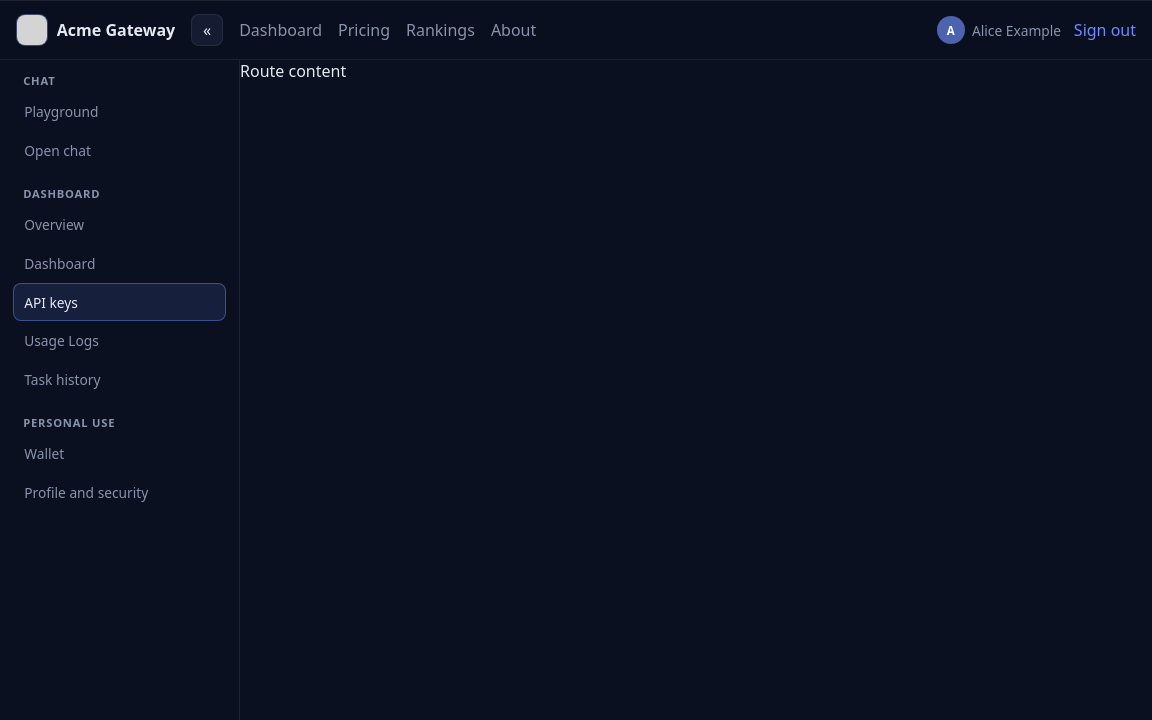
Scenario: AuthenticatedLayout › keeps the session visible and redacts a failed logout response
Click the button "Sign out" at (1105, 30), box [1074,13,1136,47]
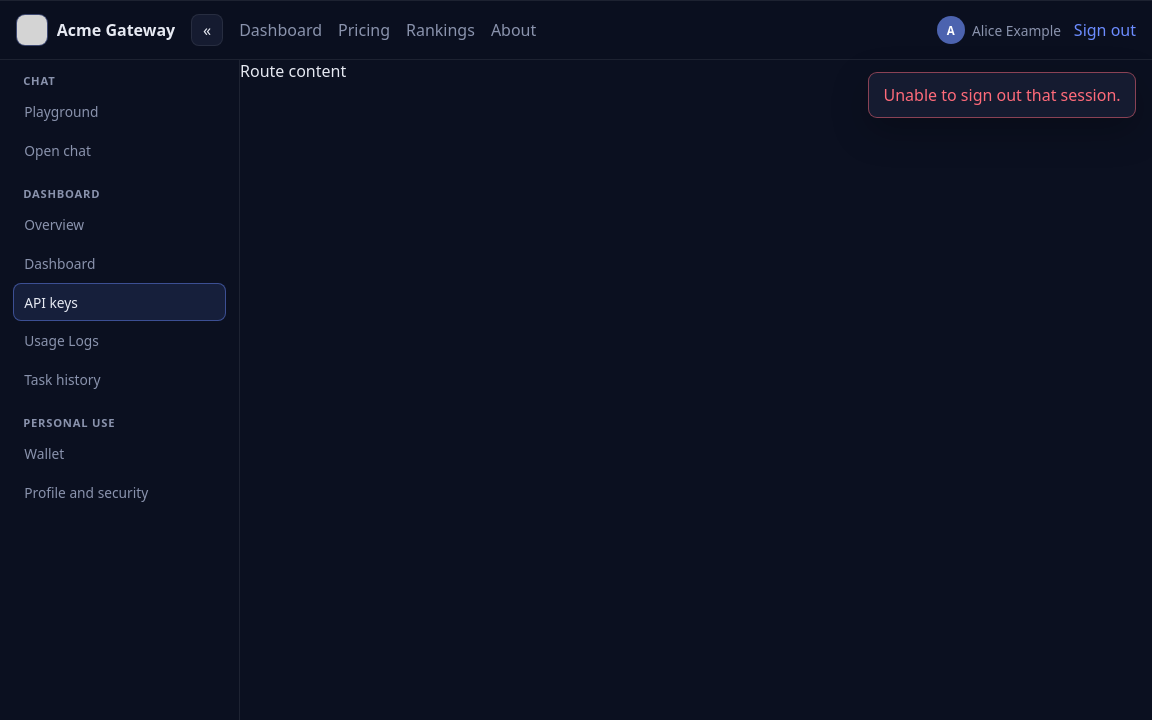
Now the message reads "Unable to sign out that session.", box [884,84,1121,106]
